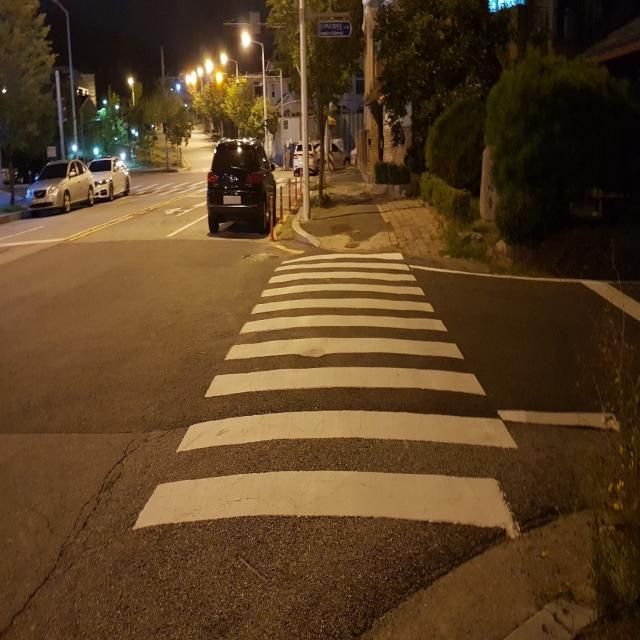횡단보도: (131, 251, 523, 543), (135, 183, 206, 192)
